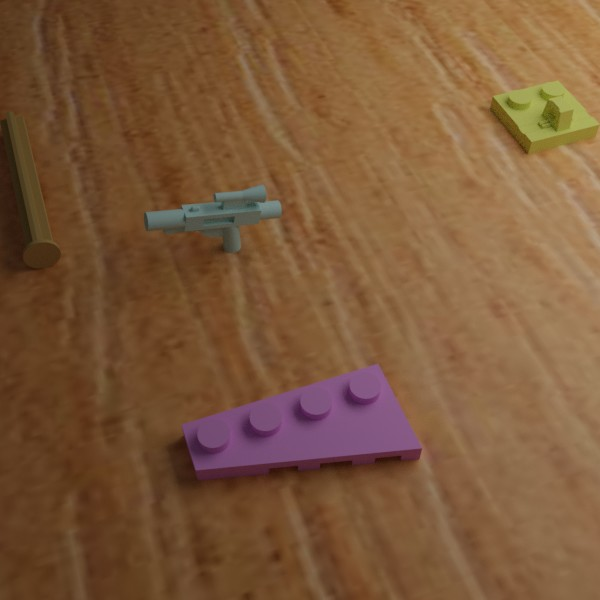lego: (181, 363, 422, 480), (0, 111, 60, 268), (143, 184, 281, 252), (490, 80, 600, 154)
